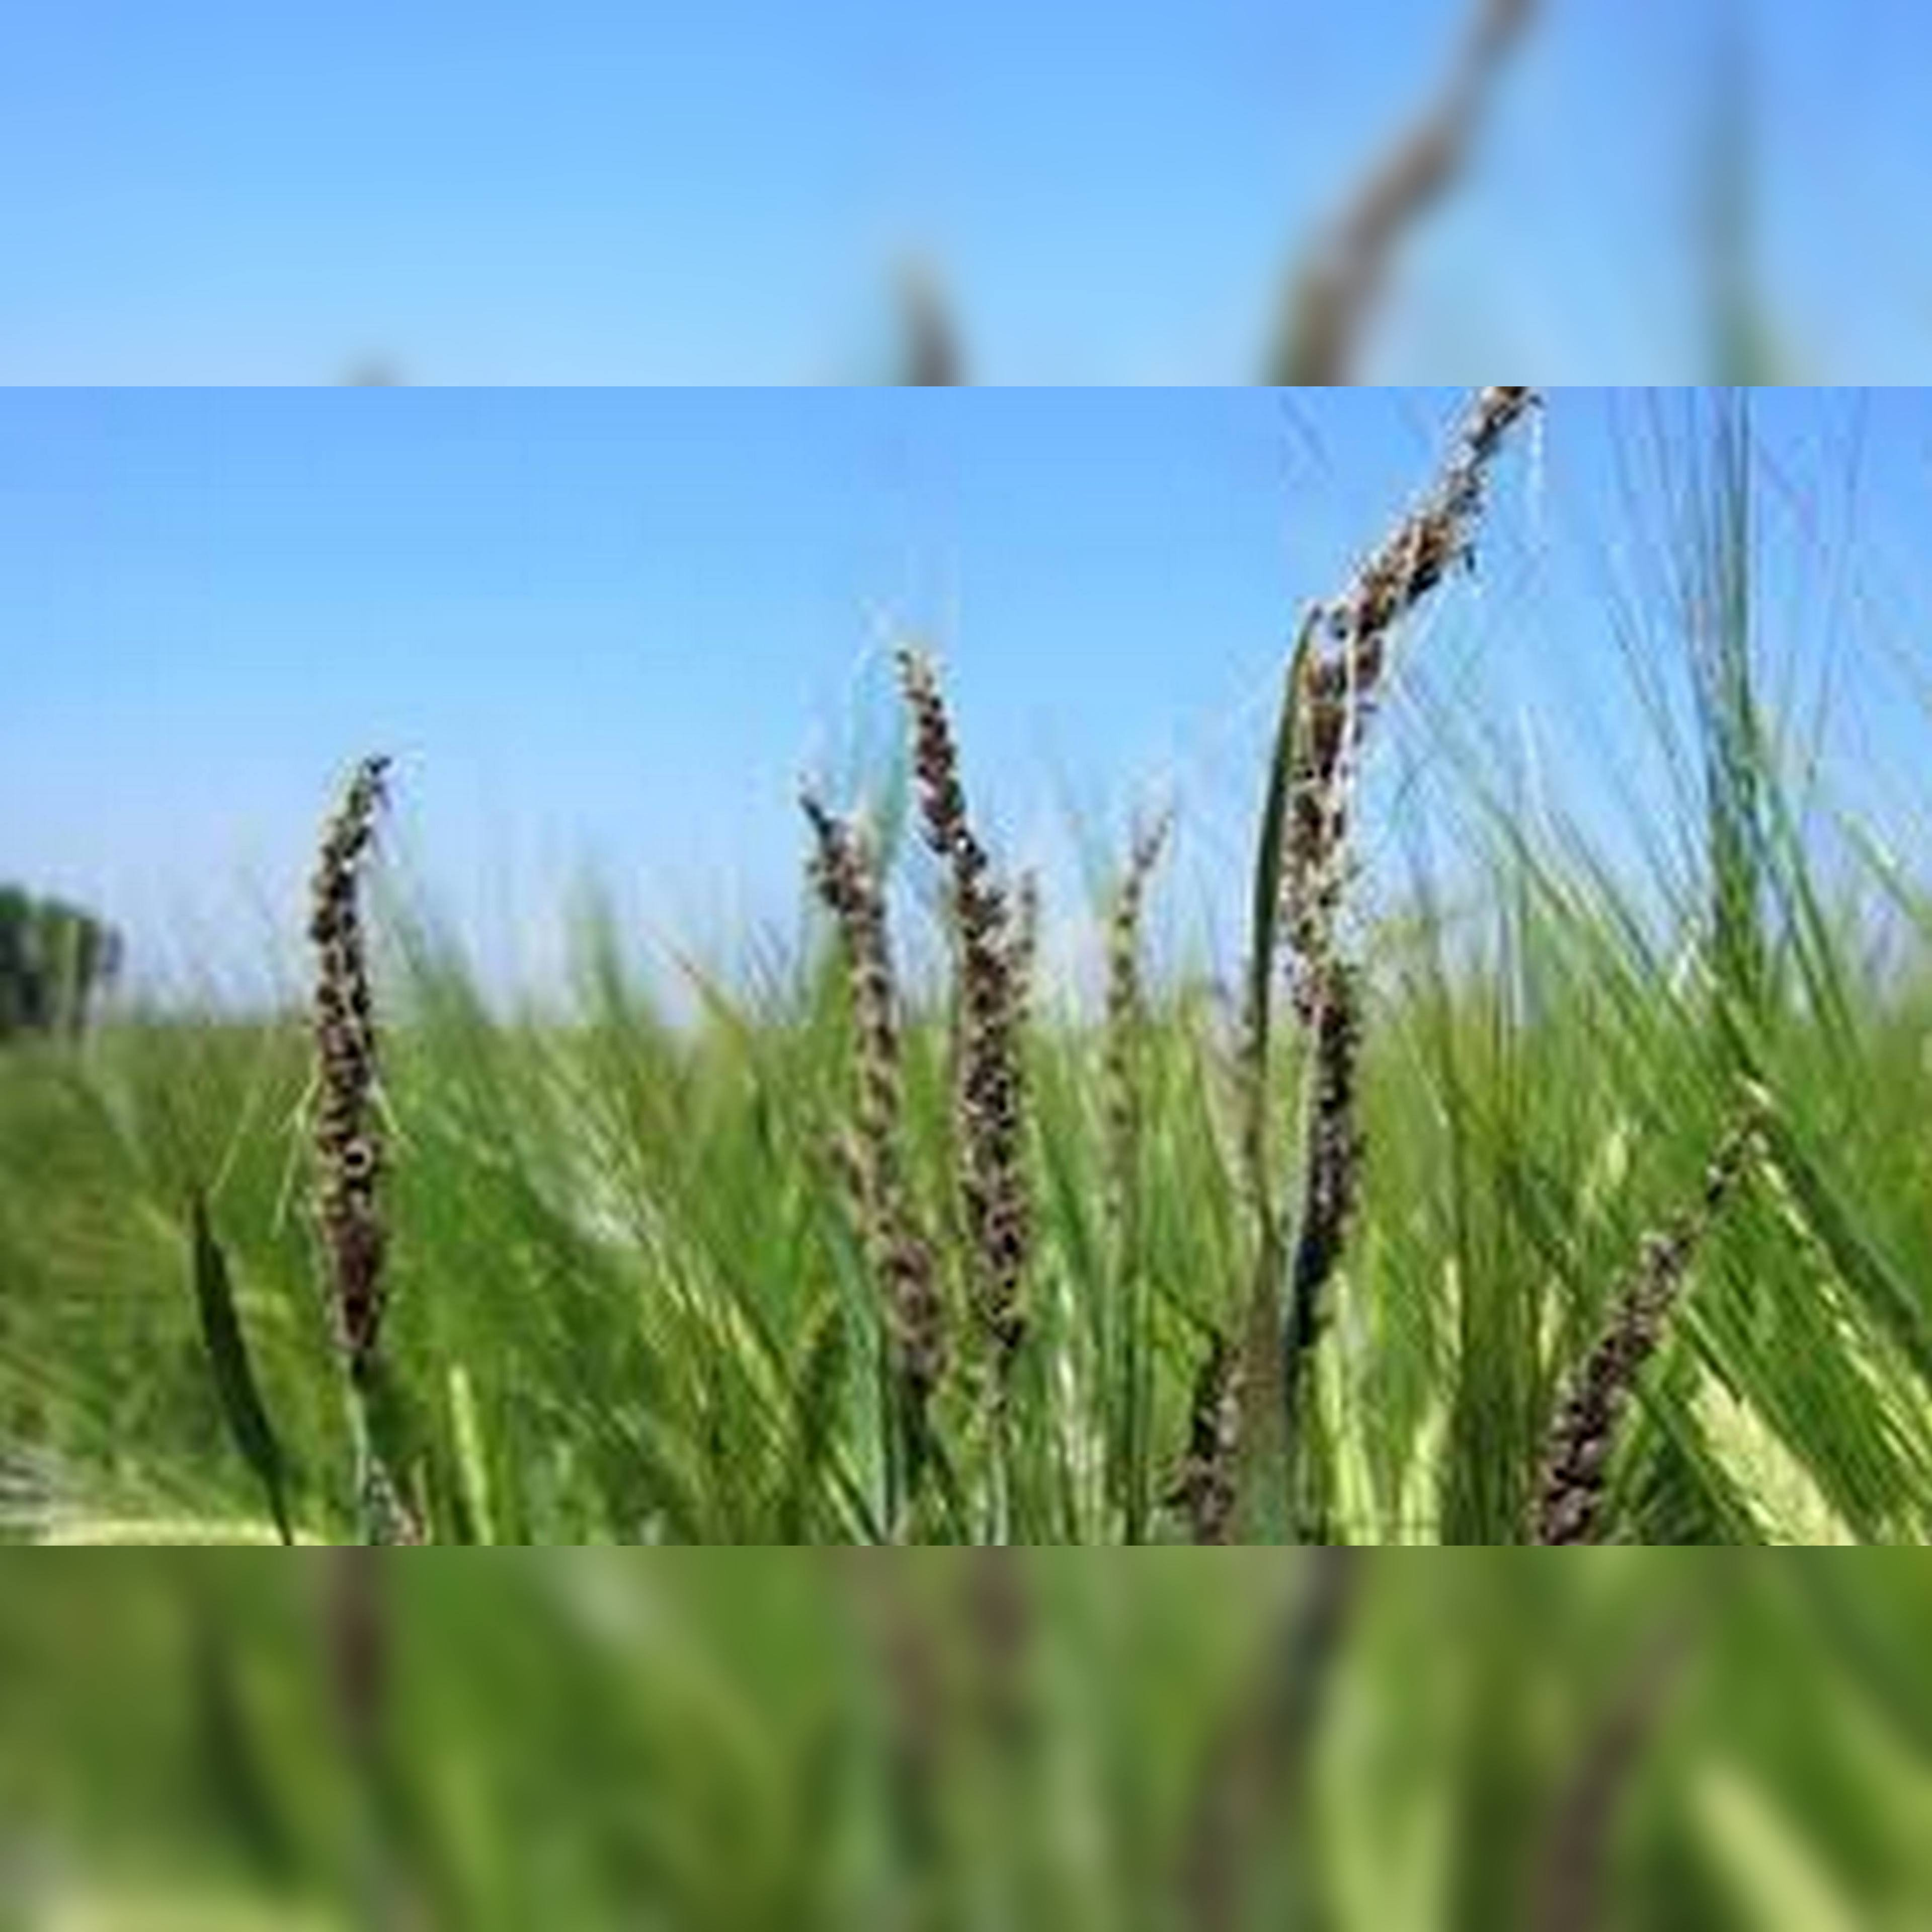Wheat Loose Smut: (748, 547, 1499, 1410)
